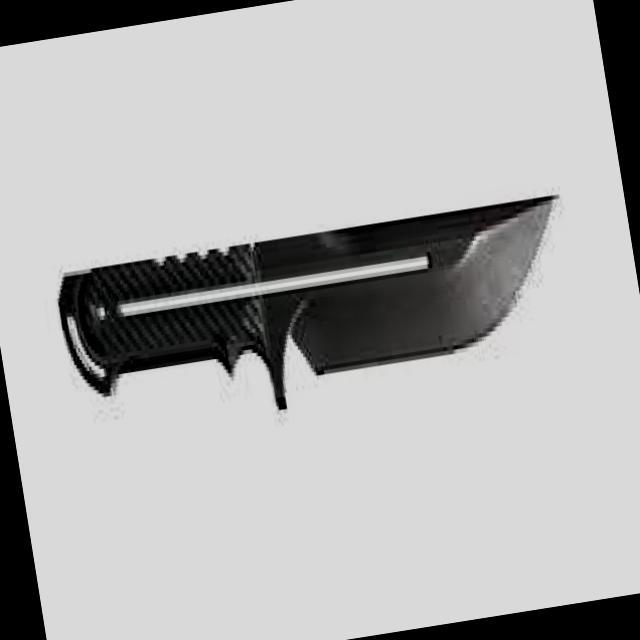Knife: (18, 150, 626, 538)
